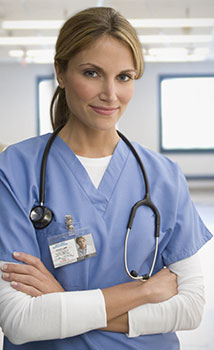hand: (1, 249, 66, 305), (144, 266, 180, 307)
